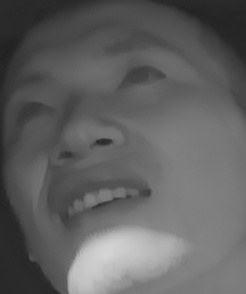eye: (114, 60, 171, 97), (10, 101, 60, 127)
mouth: (45, 161, 155, 232)
